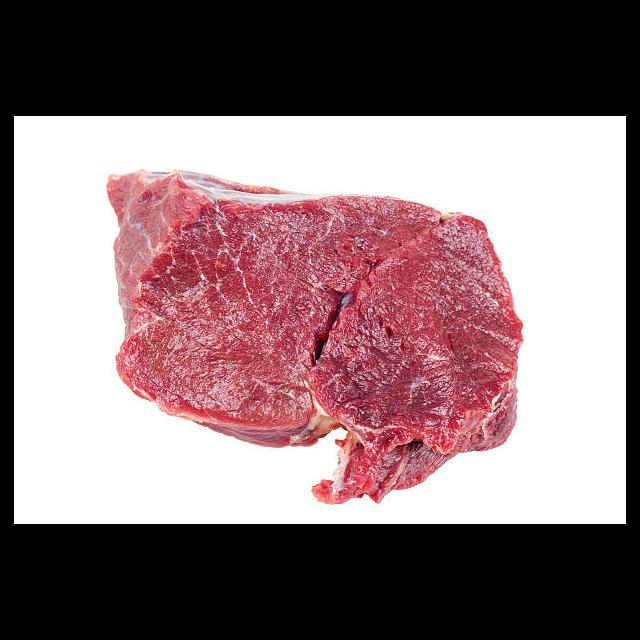beef: (106, 168, 526, 506)
